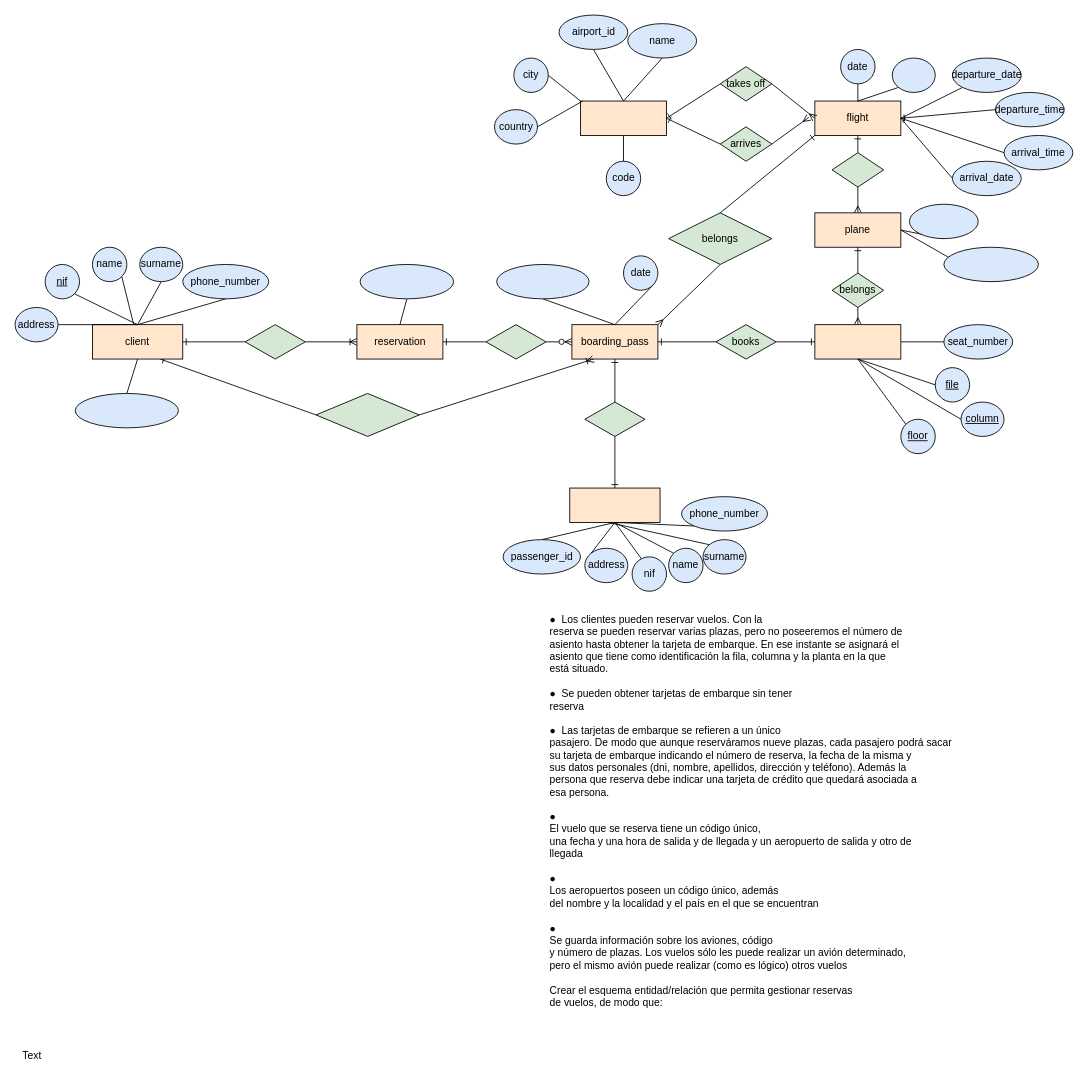
Image size: 1088x1079. Some labels were removed from this diagram. The shapes that lost their labels are listed below. From the top down, each one's centre as x and y in pixels, then its label:
At point 913,74: "flight_id".
At point 623,117: "airport".
At point 857,169: "does".
At point 943,221: "plane_id".
At point 406,281: "reservation_number".
At point 542,281: "boarding_pass_id".
At point 990,264: "number_of_seats".
At point 274,341: "book".
At point 515,341: "generates".
At point 857,341: "seat".
At point 126,410: "credit_card_info".
At point 367,414: "buys".
At point 614,418: "has".
At point 614,504: "passenger".
